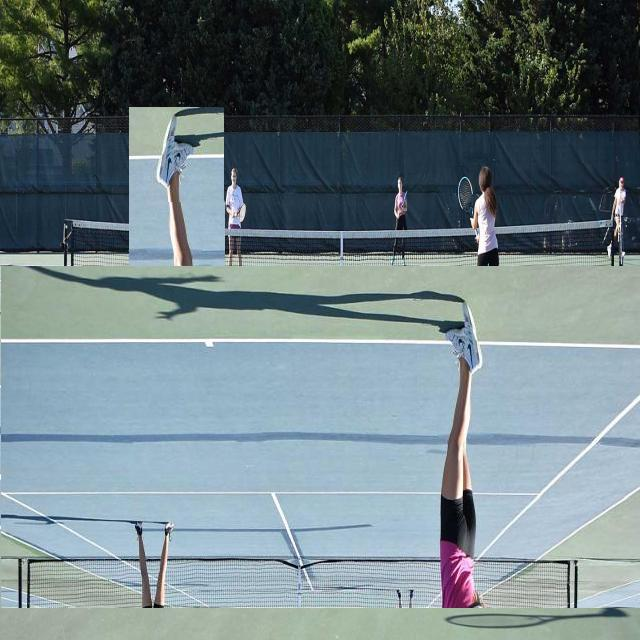court: (1, 266, 640, 608)
net: (55, 202, 631, 332)
player: (130, 108, 226, 582), (447, 143, 514, 357)
